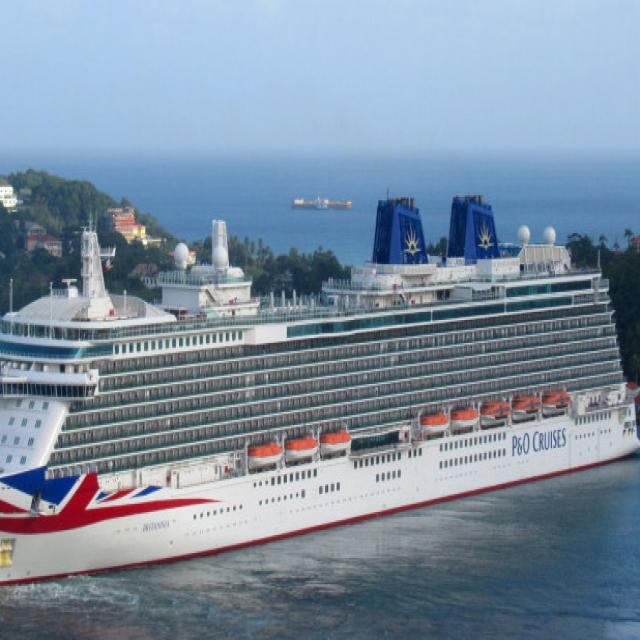cruises: (1, 178, 640, 607)
